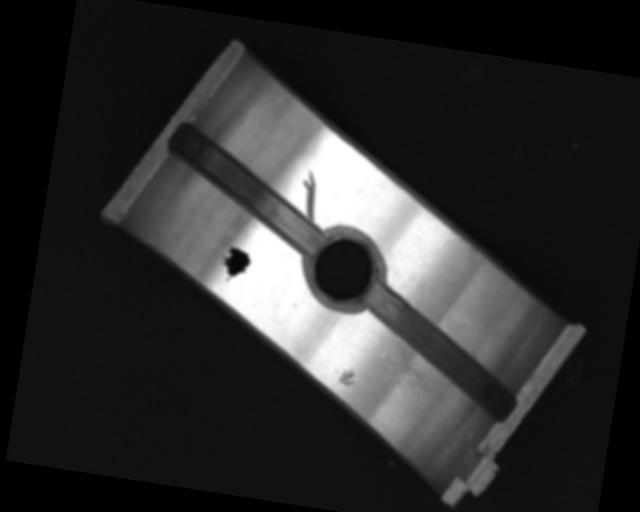blot: (217, 245, 253, 286)
bruise: (332, 366, 357, 389)
gap: (350, 281, 531, 424), (157, 123, 333, 254)
hole: (298, 224, 389, 313)
nick: (297, 168, 322, 221)
scratch: (375, 335, 459, 410)
